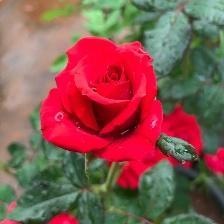rose: (40, 36, 164, 165), (160, 109, 205, 164)
